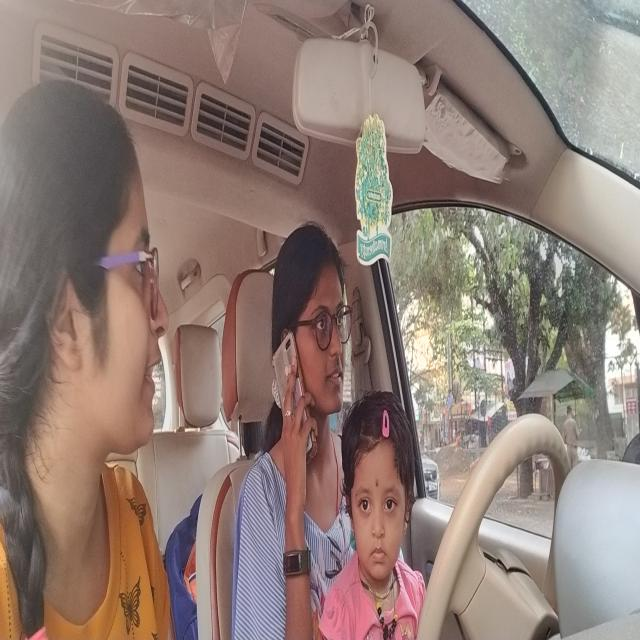child: (341, 394, 418, 590)
mobile: (271, 324, 316, 469)
person: (0, 71, 177, 510), (266, 208, 354, 437)
